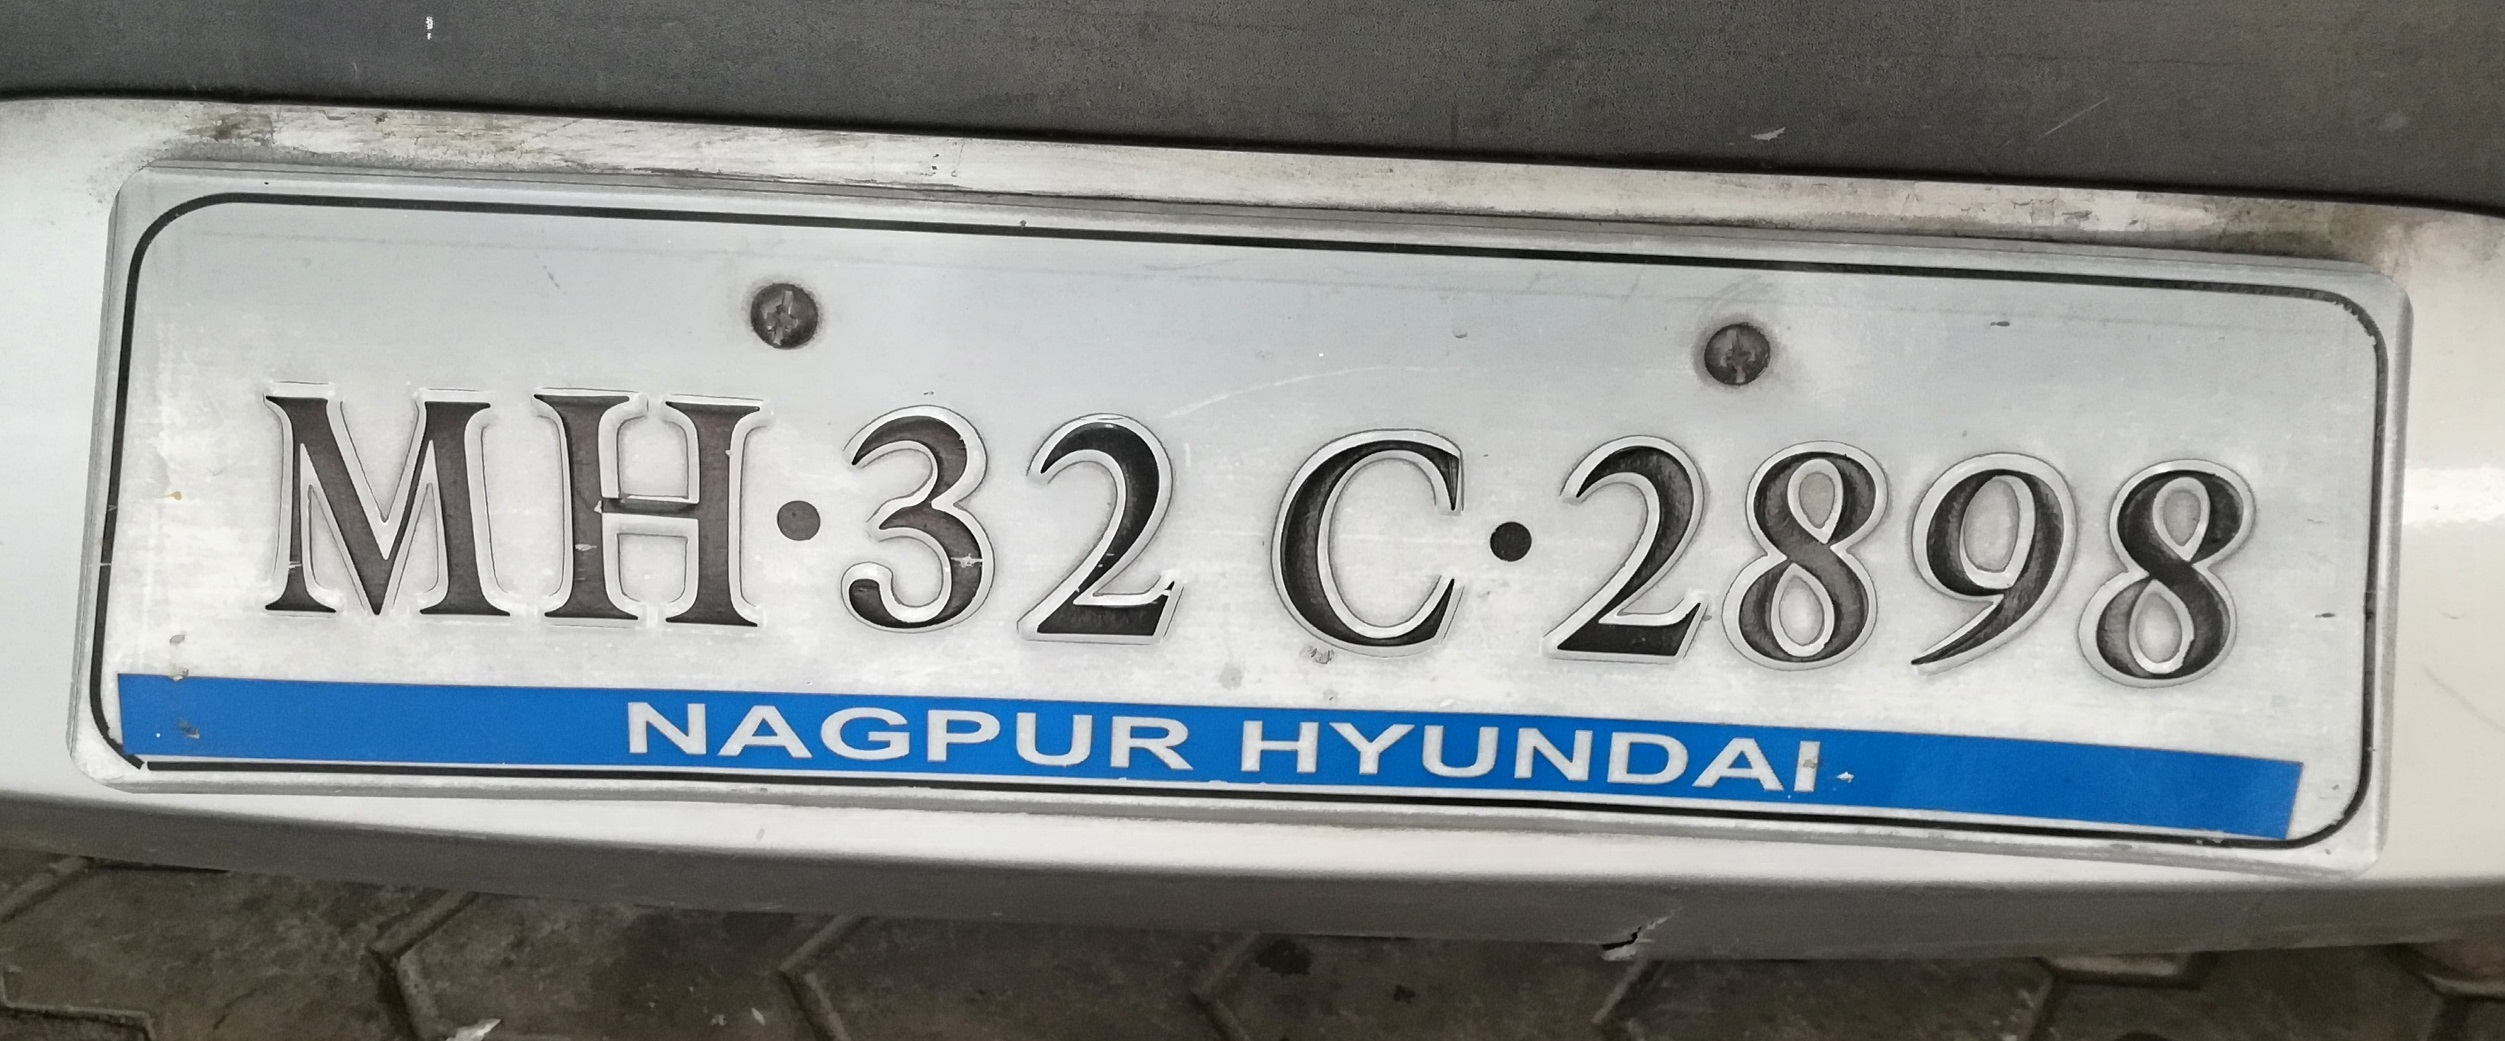numberplate: (94, 163, 2387, 899)
